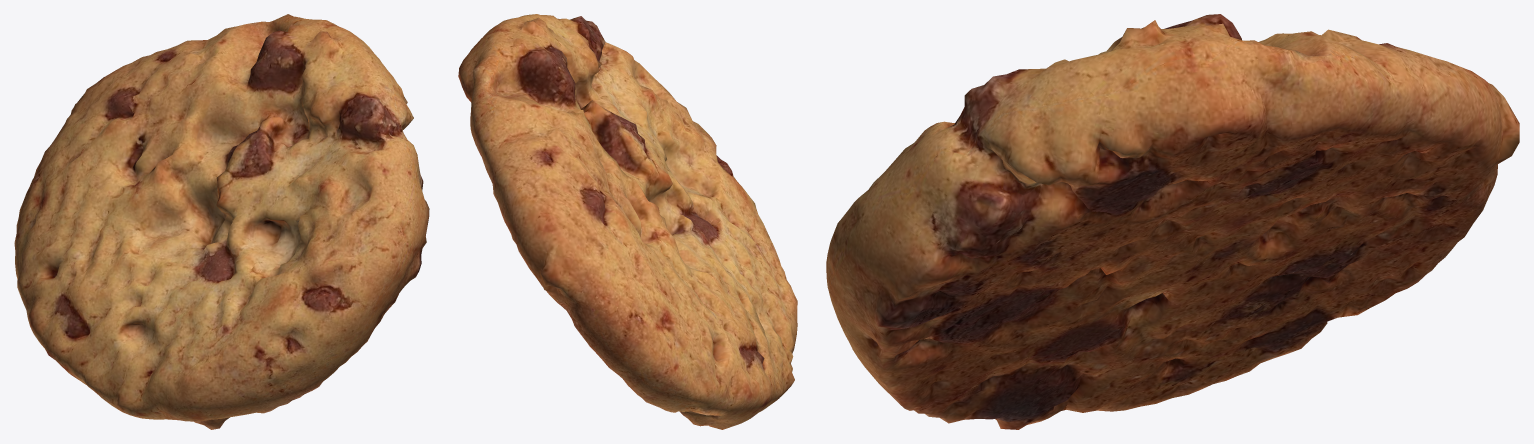
Rendered from cookie.glb.
The picture shows the model from 3 angles, left to right: view 1: azimuth 30°, elevation 25°; view 2: azimuth 150°, elevation 25°; view 3: azimuth 270°, elevation 25°; orthographic projection. The views are drawn at different scales.
Parts seen in each view (by area): view 1: Choc Chip Cookie 4 Base LOD 2_Choc Chip Cookie 4 Base LOD 2_; view 2: Choc Chip Cookie 4 Base LOD 2_Choc Chip Cookie 4 Base LOD 2_; view 3: Choc Chip Cookie 4 Base LOD 2_Choc Chip Cookie 4 Base LOD 2_.
Boxes of the visible parts, x1=… form: Choc Chip Cookie 4 Base LOD 2_Choc Chip Cookie 4 Base LOD 2_: x1=14, y1=14, x2=429, y2=429; Choc Chip Cookie 4 Base LOD 2_Choc Chip Cookie 4 Base LOD 2_: x1=458, y1=14, x2=797, y2=429; Choc Chip Cookie 4 Base LOD 2_Choc Chip Cookie 4 Base LOD 2_: x1=826, y1=14, x2=1519, y2=429.
Size of the model in its own units: 3.99 by 4.07 by 4.82.
Materials: 1 (1 with a texture image).
